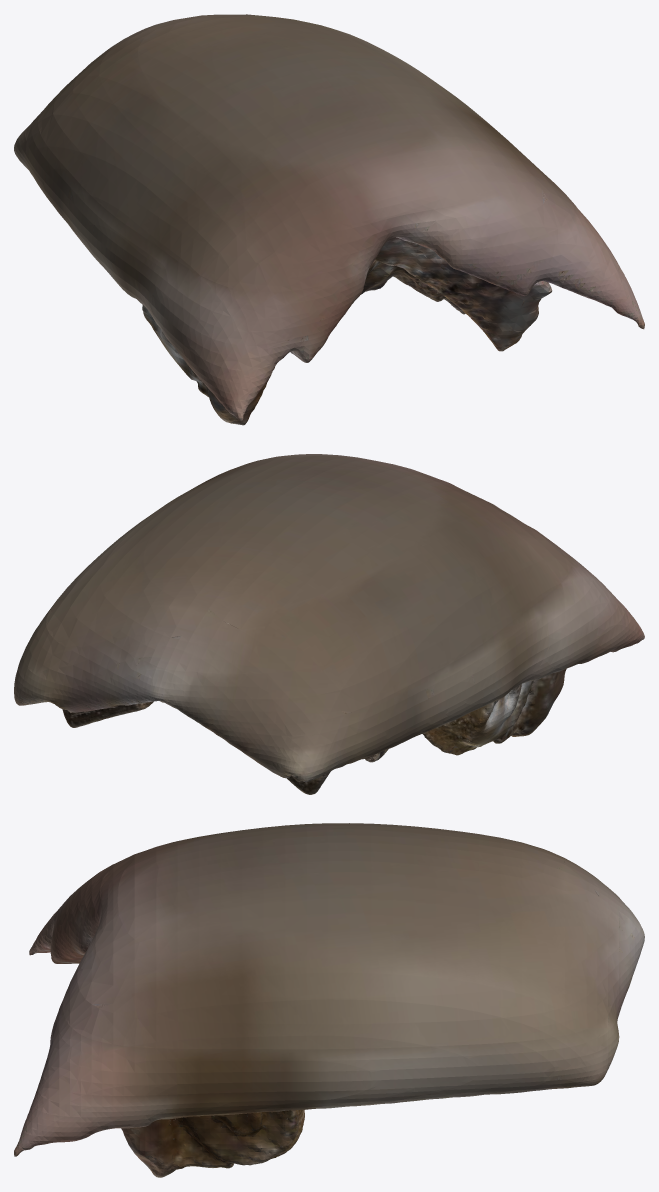
The model's file is angels.glb.
3 renders of one model, top to bottom at view 1: azimuth 30°, elevation 25°; view 2: azimuth 150°, elevation 25°; view 3: azimuth 270°, elevation 25°, orthographic. The views are drawn at different scales.
Visible parts, largest first — view 1: Node; view 2: Node; view 3: Node.
Boxes of the visible parts, bbox=[...] form: Node: bbox=[14, 14, 644, 425]; Node: bbox=[14, 454, 644, 794]; Node: bbox=[14, 823, 644, 1177].
Size of the model in its own units: 1.72 by 1.05 by 2.19.
Materials: 1 (1 with a texture image).
